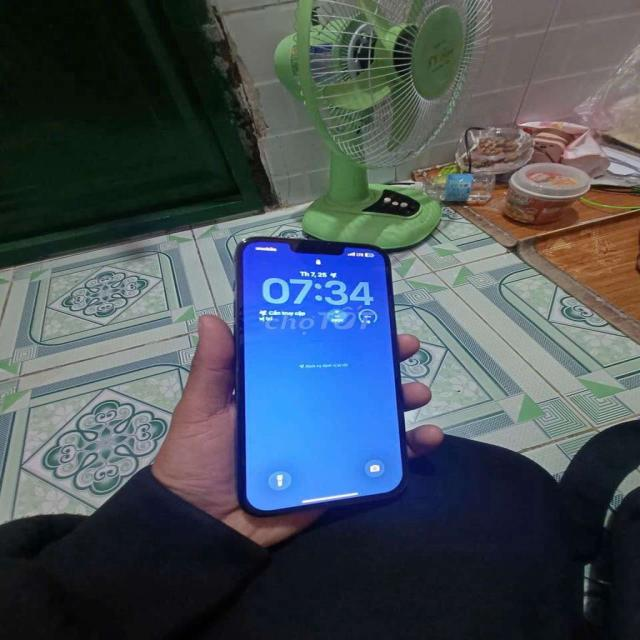gen_12_13: (230, 230, 409, 520)
